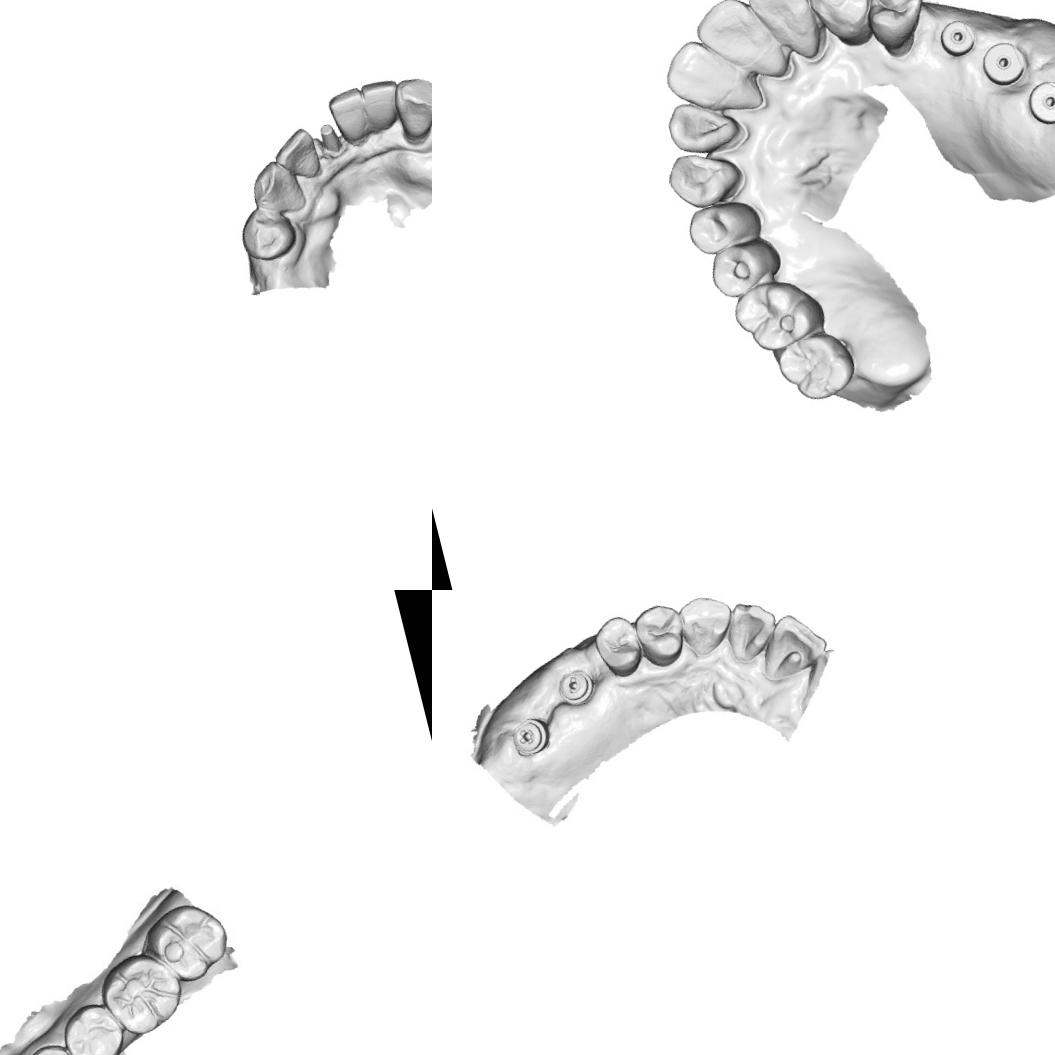abutment: (310, 117, 344, 158)
canine: (662, 140, 751, 217), (671, 590, 740, 660), (802, 0, 882, 56), (244, 154, 309, 222), (388, 69, 432, 142)
implant: (975, 37, 1030, 90), (935, 16, 979, 60), (1021, 74, 1055, 130)
implant_minus: (552, 664, 598, 710)
implant_plus: (505, 712, 552, 761)
incisor: (750, 604, 834, 686), (687, 0, 774, 77), (660, 88, 748, 160), (656, 31, 740, 106), (742, 0, 828, 70), (719, 592, 786, 665), (266, 122, 324, 187), (321, 81, 373, 145), (356, 70, 401, 128)
molar: (91, 943, 190, 1044), (727, 268, 830, 357), (142, 896, 234, 988), (772, 326, 862, 408)
premolar: (681, 193, 767, 258), (705, 236, 788, 300), (858, 0, 936, 62), (628, 598, 692, 672), (587, 610, 647, 683), (233, 200, 300, 265), (62, 1001, 126, 1055), (18, 1033, 88, 1055)
